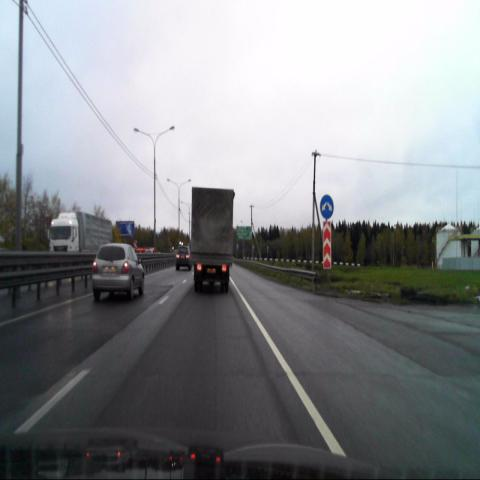4_2_3: (320, 195, 334, 219)
